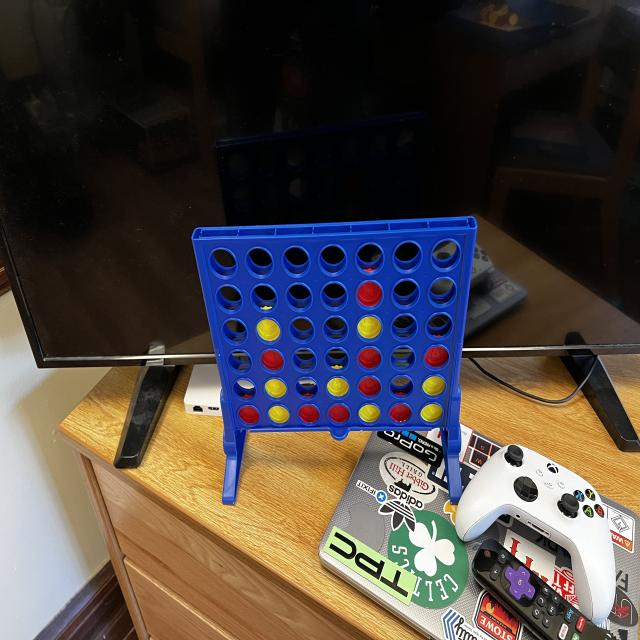Board: (191, 225, 472, 434)
No Piece: (430, 234, 463, 276), (390, 237, 425, 276), (278, 242, 313, 280), (353, 240, 387, 277), (318, 242, 350, 280), (206, 245, 240, 280), (242, 244, 275, 280), (219, 315, 254, 347), (391, 276, 423, 310), (319, 279, 350, 314), (214, 282, 245, 316), (284, 280, 315, 314), (389, 309, 420, 342), (248, 282, 278, 315), (286, 313, 316, 346), (428, 274, 457, 308), (321, 342, 350, 375), (291, 344, 319, 376), (322, 313, 350, 344), (225, 346, 254, 375), (427, 309, 454, 338), (386, 371, 416, 397), (231, 375, 258, 403), (390, 343, 416, 372), (294, 375, 320, 402)
Red Piece: (356, 277, 384, 312), (422, 341, 452, 371), (260, 347, 286, 376), (296, 400, 322, 428), (356, 346, 383, 372), (356, 373, 382, 397), (387, 401, 412, 425), (326, 402, 352, 425), (238, 405, 262, 428)
Yellow Piece: (253, 316, 284, 345), (354, 313, 384, 342), (420, 373, 448, 398), (262, 376, 289, 401), (356, 400, 382, 425), (325, 374, 351, 398), (418, 402, 444, 424)
